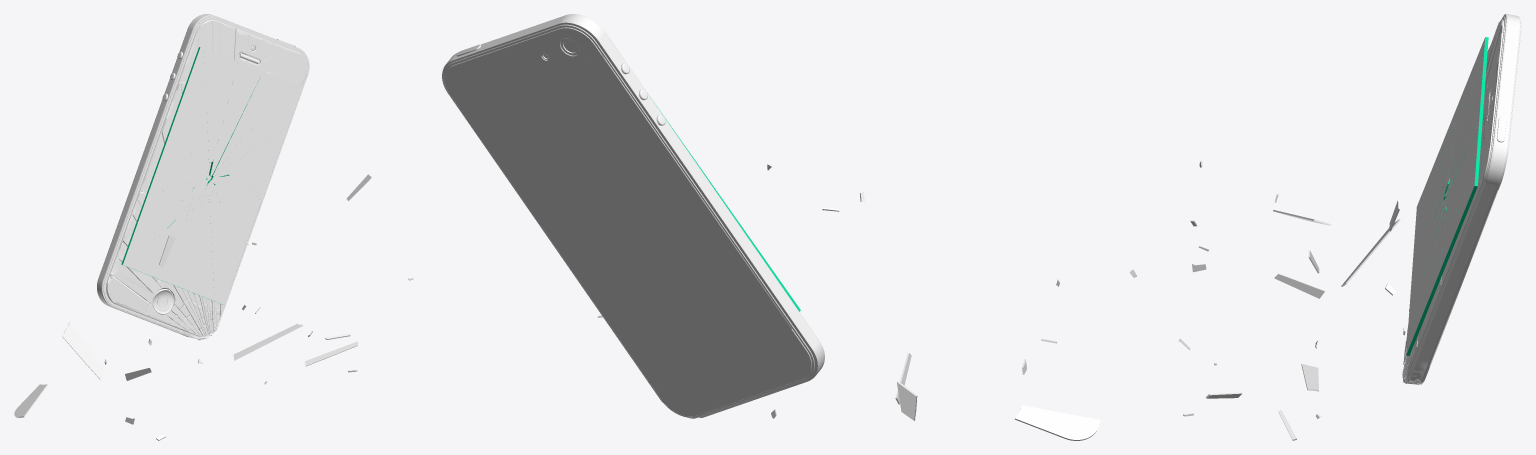
Rendered from phone.glb.
3 renders of one model, left to right at view 1: azimuth 30°, elevation 25°; view 2: azimuth 150°, elevation 25°; view 3: azimuth 270°, elevation 25°, orthographic. The views are drawn at different scales.
Parts seen in each view (by area): view 1: Cube, disssssssss, Curve.013, Curve.052, Cube.002, Curve.010, Cube.008, Cube.000; view 2: Plane.003, Curve.012, Curve.013, Curve.014, Cube.000; view 3: Cube, Curve.013, disssssssss, Curve.052, Curve.014, Cube.004.
Part boxes in pixels (left/top/right/bottom): Cube: left=121, top=47, right=301, bottom=304; disssssssss: left=106, top=20, right=307, bottom=336; Curve.013: left=97, top=14, right=309, bottom=340; Curve.052: left=103, top=17, right=308, bottom=339; Cube.002: left=62, top=322, right=105, bottom=379; Curve.010: left=152, top=289, right=173, bottom=314; Cube.008: left=233, top=323, right=302, bottom=360; Cube.000: left=14, top=384, right=47, bottom=417; Plane.003: left=459, top=56, right=792, bottom=378; Curve.012: left=444, top=27, right=811, bottom=416; Curve.013: left=442, top=14, right=824, bottom=418; Curve.014: left=443, top=24, right=814, bottom=417; Cube.000: left=1015, top=405, right=1100, bottom=440; Cube: left=1406, top=37, right=1488, bottom=355; Curve.013: left=1405, top=14, right=1520, bottom=384; disssssssss: left=1402, top=19, right=1503, bottom=378; Curve.052: left=1403, top=16, right=1505, bottom=382; Curve.014: left=1420, top=20, right=1520, bottom=384; Cube.004: left=1274, top=273, right=1324, bottom=298.
Bounding box in the file's own units: 1.9 × 1.42 × 1.29.
